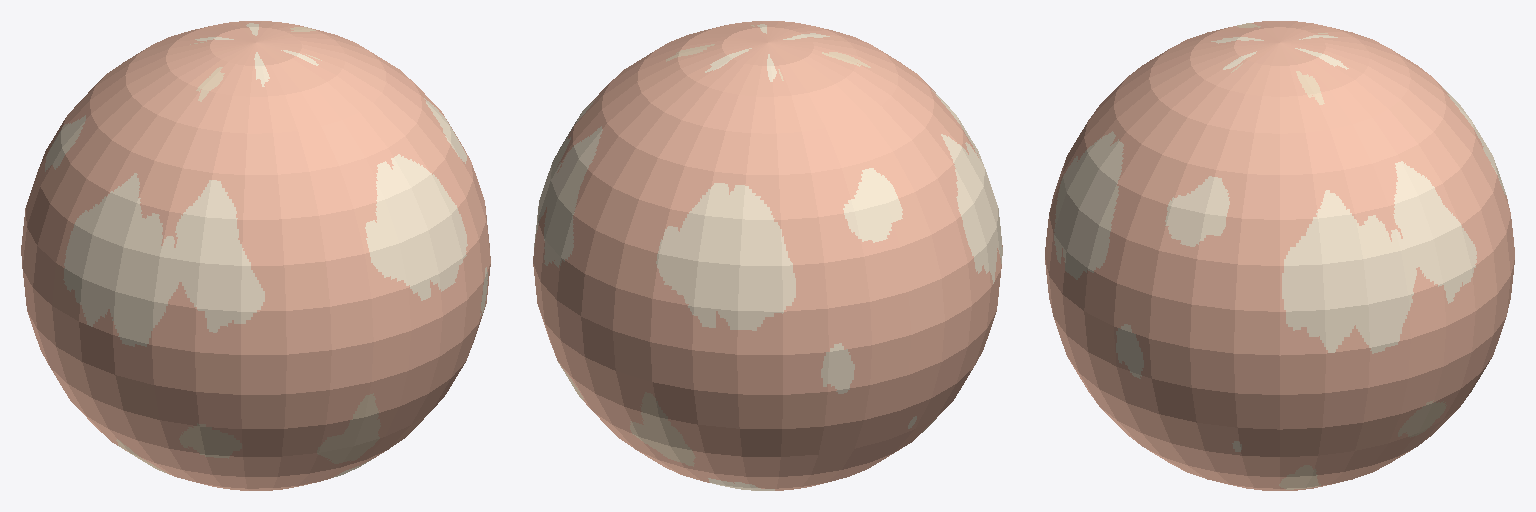
3 renders of one model, left to right at view 1: azimuth 30°, elevation 25°; view 2: azimuth 150°, elevation 25°; view 3: azimuth 270°, elevation 25°, orthographic.
Visible parts, largest first — view 1: Sphere; view 2: Sphere; view 3: Sphere.
Boxes of the visible parts, <box> form: Sphere: <box>21,21,490,490</box>; Sphere: <box>533,21,1002,490</box>; Sphere: <box>1045,21,1514,490</box>.
Bounding box in the file's own units: 2 × 2 × 2.
Materials: 1 (1 with a texture image).